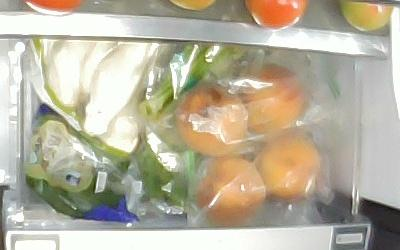peach_vinyl: (174, 82, 249, 157), (234, 62, 306, 133), (196, 156, 265, 226), (255, 135, 323, 203)
